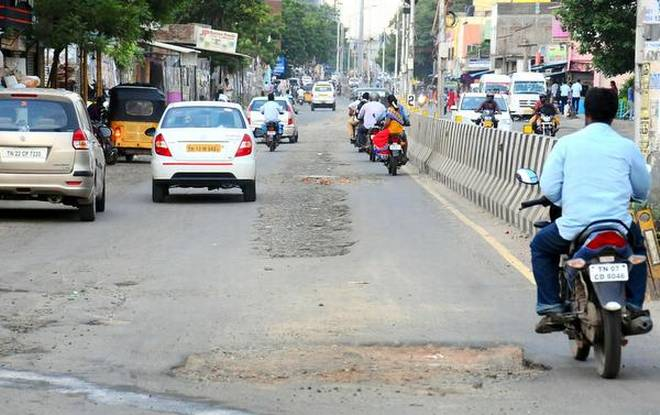pothole: (183, 318, 554, 395), (252, 165, 357, 259)
